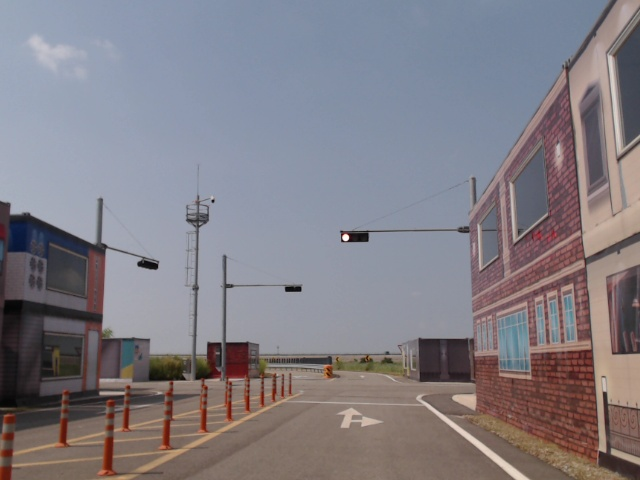red_3: (340, 232, 369, 243)
